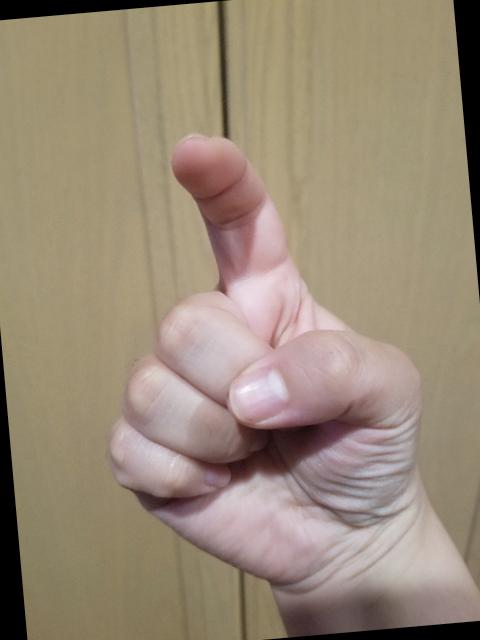X: (74, 109, 446, 608)
